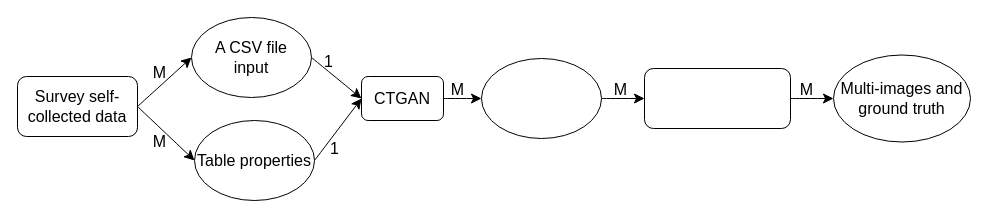
This 988x218 diagram has some shape labels left out. The centre of each missing label's shape, as x and y in pixels:
Draw image and create ground truth: (x=717, y=98)
Multi-CSV file output: (x=541, y=98)
